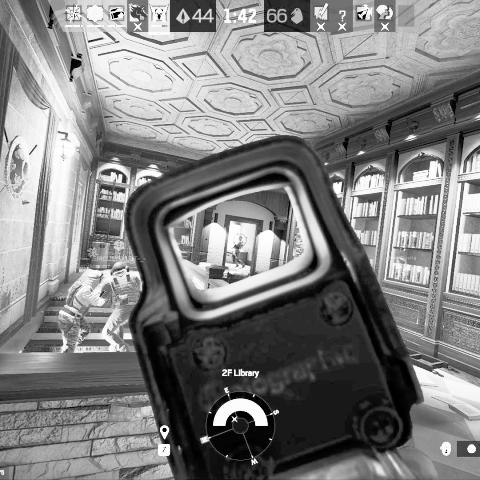Character: (100, 260, 142, 355), (58, 268, 104, 352), (230, 234, 248, 270)
Friend_label: (94, 239, 141, 262), (75, 246, 111, 271), (387, 244, 419, 262)
Head: (87, 270, 103, 286), (111, 261, 129, 275), (238, 235, 243, 241)
